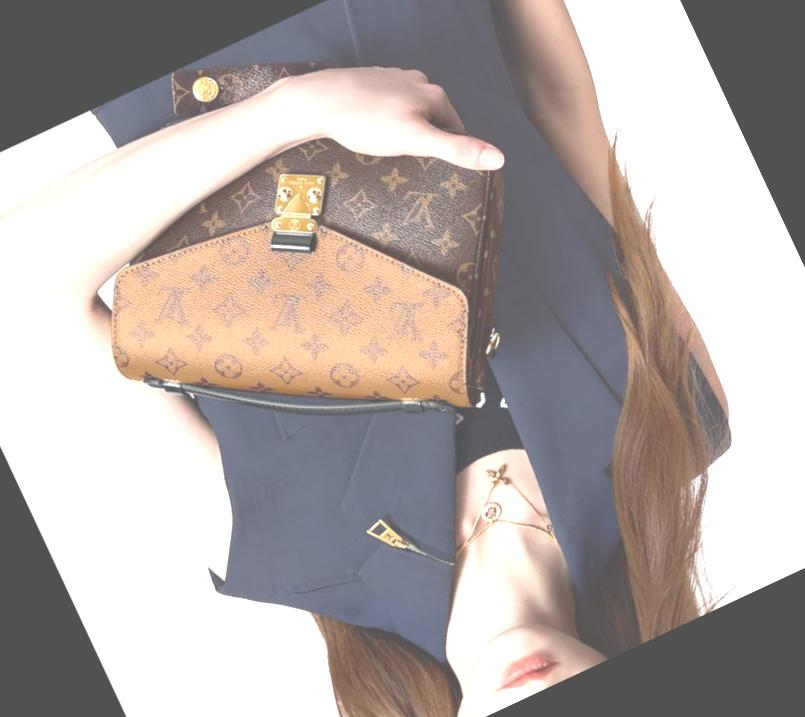LOUIS-VUITTON: (92, 96, 582, 524)
